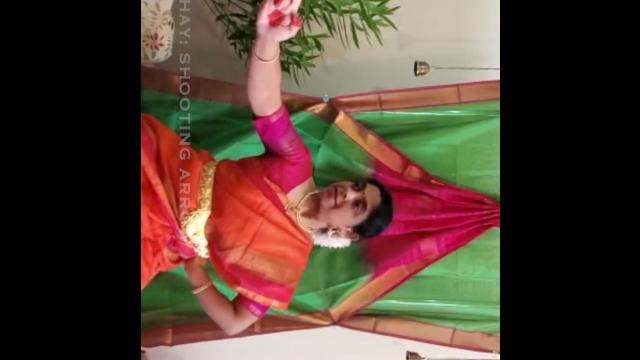tripataka: (240, 0, 319, 58)
